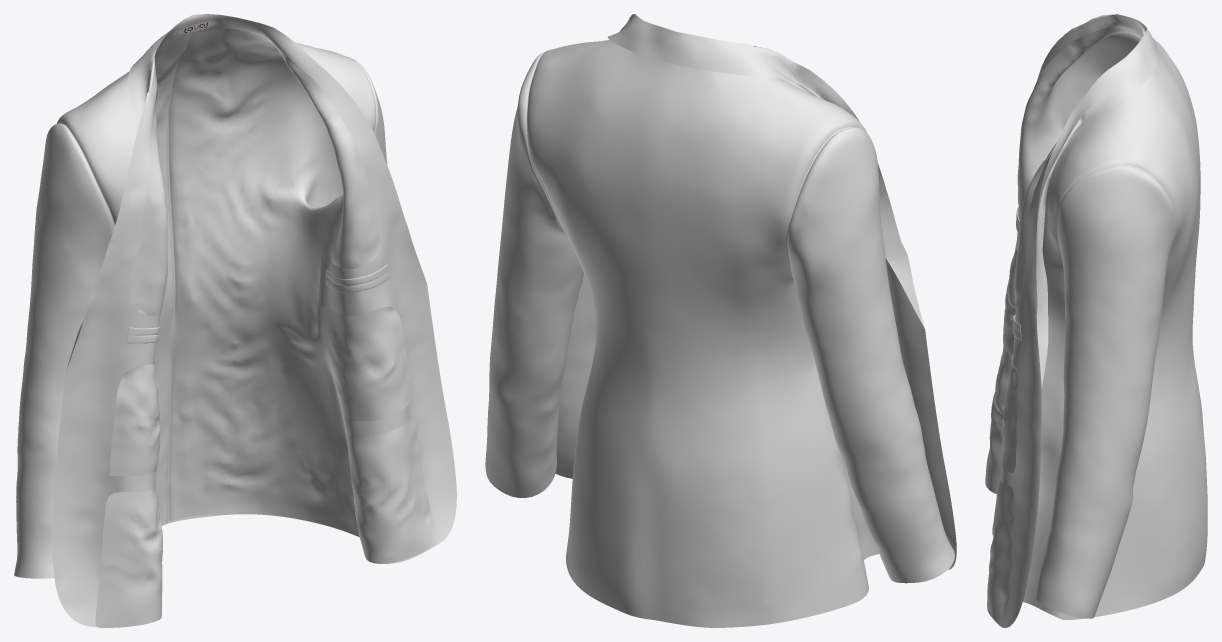
The model's file is open_lining_no_vent.glb.
3 renders of one model, left to right at view 1: azimuth 30°, elevation 25°; view 2: azimuth 150°, elevation 25°; view 3: azimuth 270°, elevation 25°, orthographic. The views are drawn at different scales.
Parts seen in each view (by area): view 1: suit_lining, suit; view 2: suit; view 3: suit, suit_lining.
Part boxes in pixels (x1=…): suit_lining: x1=95, y1=28, x2=439, y2=627; suit: x1=14, y1=14, x2=456, y2=627; suit: x1=485, y1=14, x2=956, y2=627; suit: x1=987, y1=14, x2=1207, y2=627; suit_lining: x1=985, y1=26, x2=1142, y2=623.
Bounding box in the file's own units: 65.06 × 76.44 × 29.23.
Materials: 3 (1 with a texture image).
